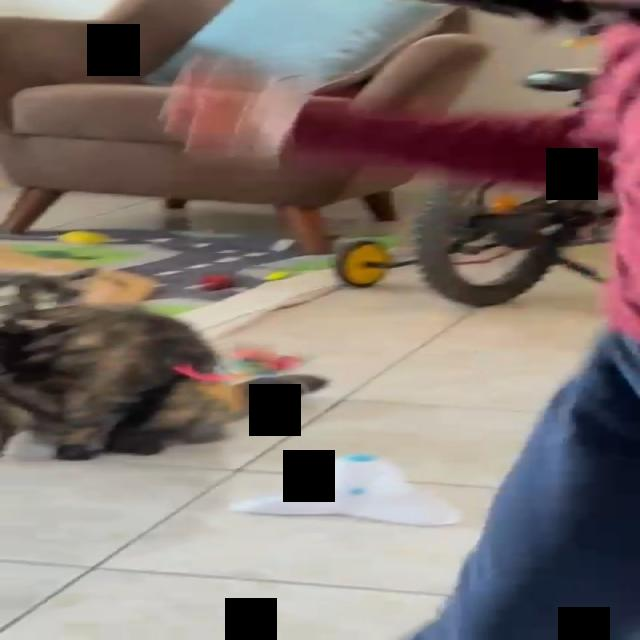authorized: (0, 266, 329, 460)
